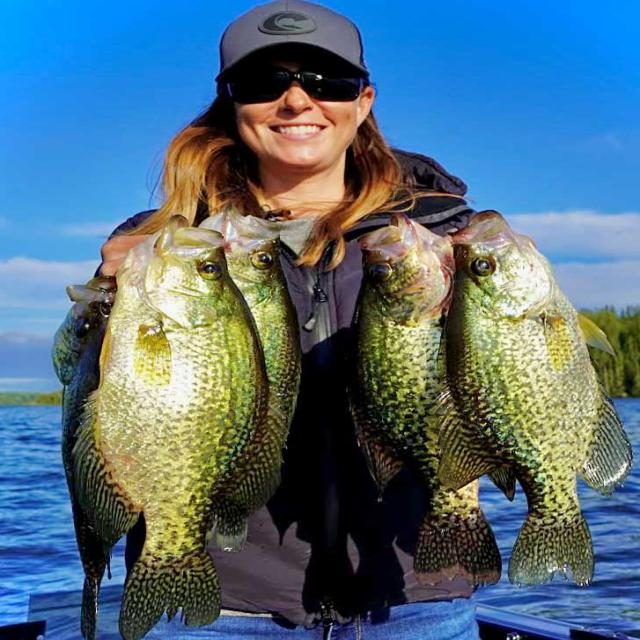Crappie - Black: (92, 220, 267, 639), (440, 211, 630, 585), (354, 215, 501, 586), (200, 210, 302, 551)
